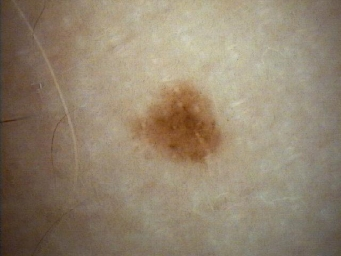nevus: (129, 85, 225, 164)
